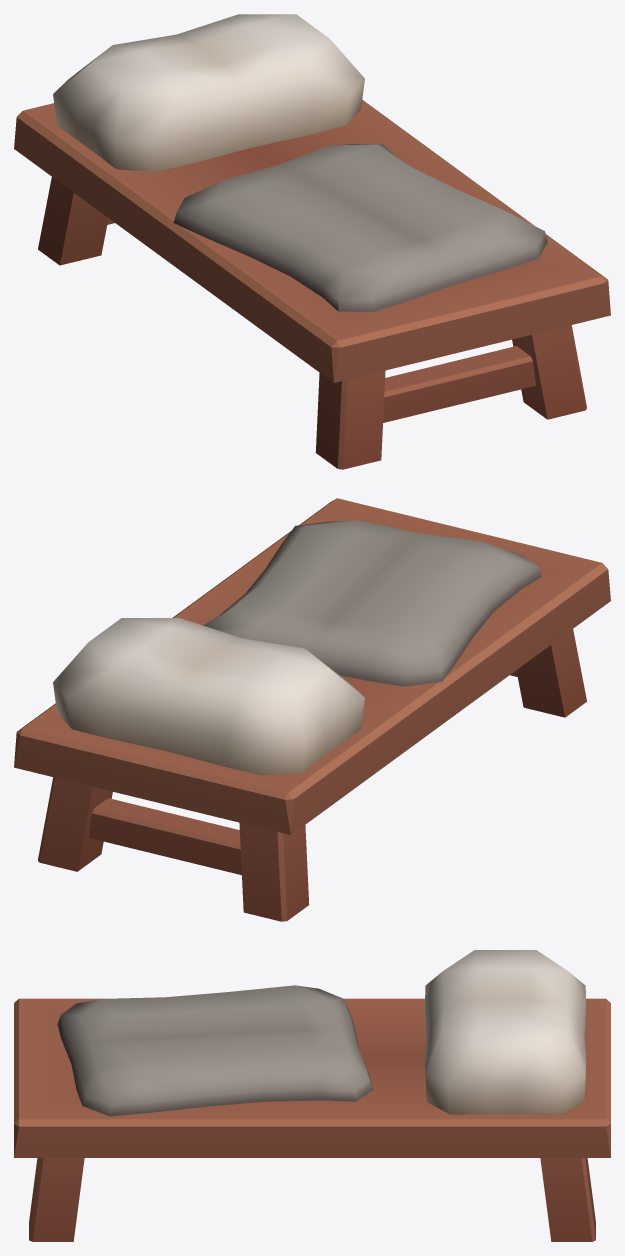
Rendered from cc0-bed-frame-lod0.glb.
The picture shows the model from 3 angles, top to bottom: view 1: azimuth 30°, elevation 25°; view 2: azimuth 150°, elevation 25°; view 3: azimuth 270°, elevation 25°; orthographic projection. The views are drawn at different scales.
Visible parts, largest first — view 1: part_0; view 2: part_0; view 3: part_0.
Boxes of the visible parts, x1,y1,x2,y2 form: part_0: (14,14,610,469); part_0: (14,498,610,921); part_0: (14,950,610,1241).
Size of the model in its own units: 1.5 by 1.06 by 3.
Materials: 1 (1 with a texture image).
